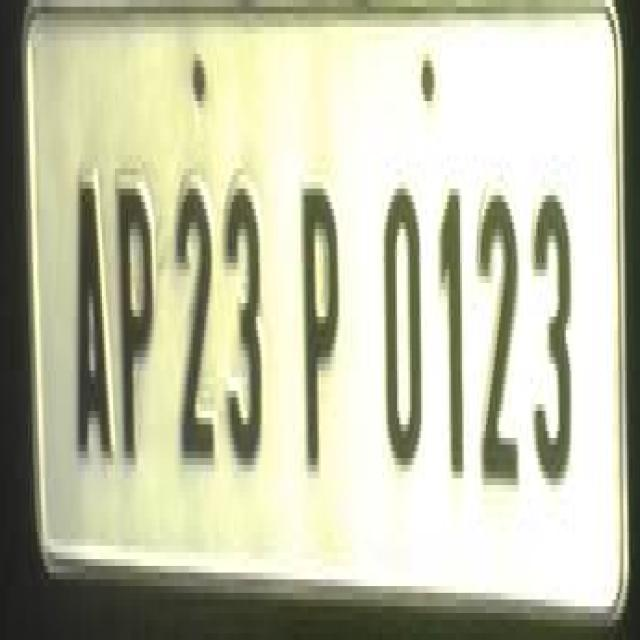license_plate: (28, 0, 638, 613)
